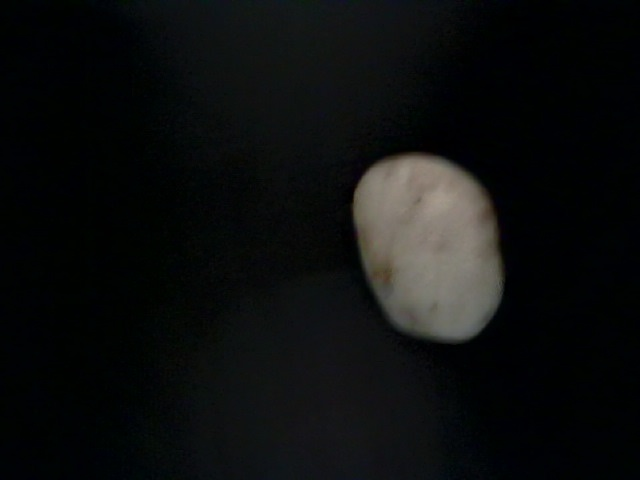QTLJ: (407, 251, 593, 480)
